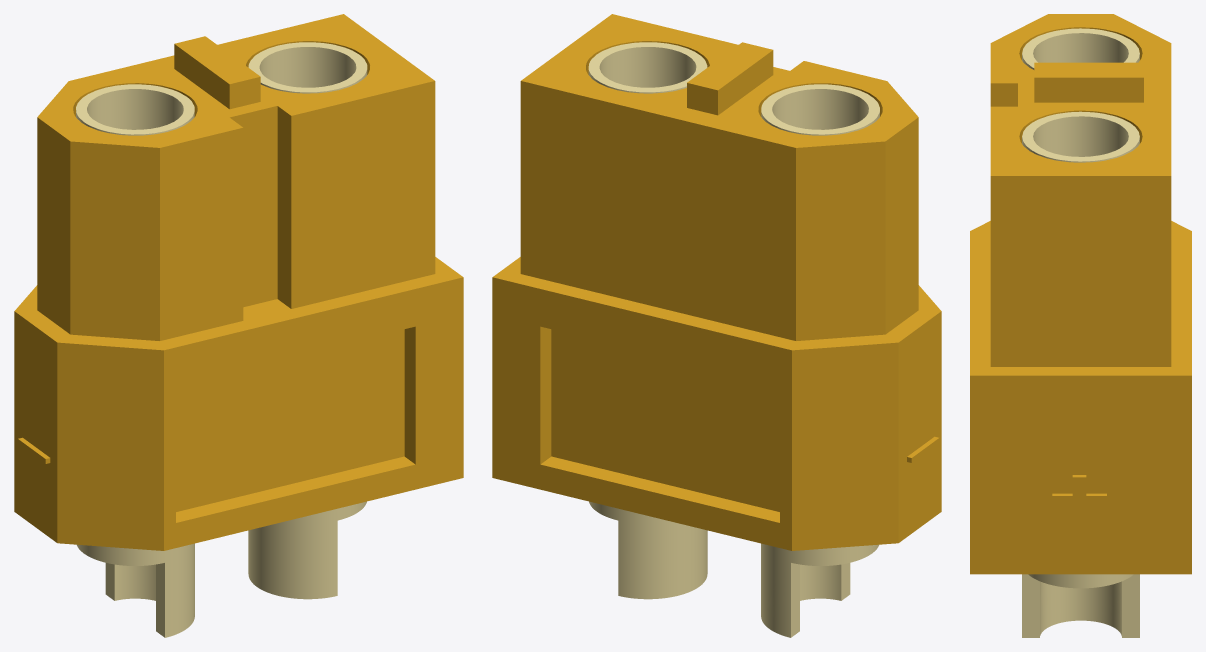
The model's file is amass_xt60_f_1x02_p7_2mm_vertical.glb.
3 views of the same model, side by side, from view 1: azimuth 30°, elevation 25°; view 2: azimuth 150°, elevation 25°; view 3: azimuth 270°, elevation 25° (orthographic).
Visible parts, largest first — view 1: conn_xt60f, pin_2, pin_1; view 2: conn_xt60f, pin_2, pin_1; view 3: conn_xt60f, pin_2.
Part boxes in pixels (x1,y1,x2,y2): conn_xt60f: (14,14,463,550); pin_2: (248,501,366,599); pin_1: (77,543,194,637); conn_xt60f: (492,14,941,550); pin_2: (589,501,707,599); pin_1: (761,543,878,637); conn_xt60f: (970,14,1191,574); pin_2: (1022,574,1139,637).
Bounding box in the file's own units: 0.0159 × 0.0212 × 0.0081.
